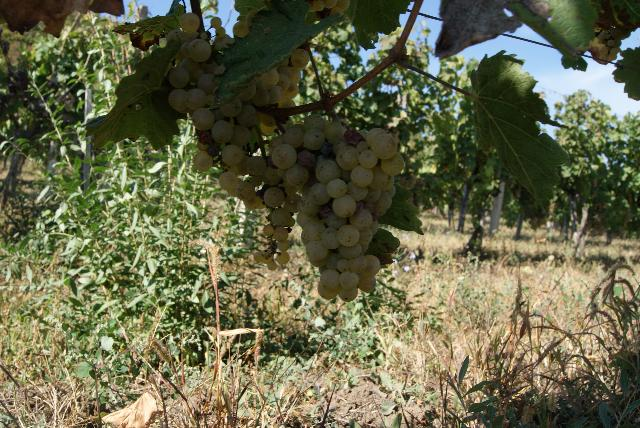grapes: (272, 115, 404, 301), (239, 156, 294, 270)
